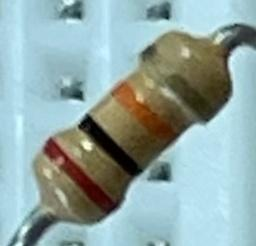Black: (73, 113, 144, 181)
Orange: (111, 79, 181, 149)
Red: (40, 136, 120, 218)
Side-Gold: (140, 44, 219, 124)
